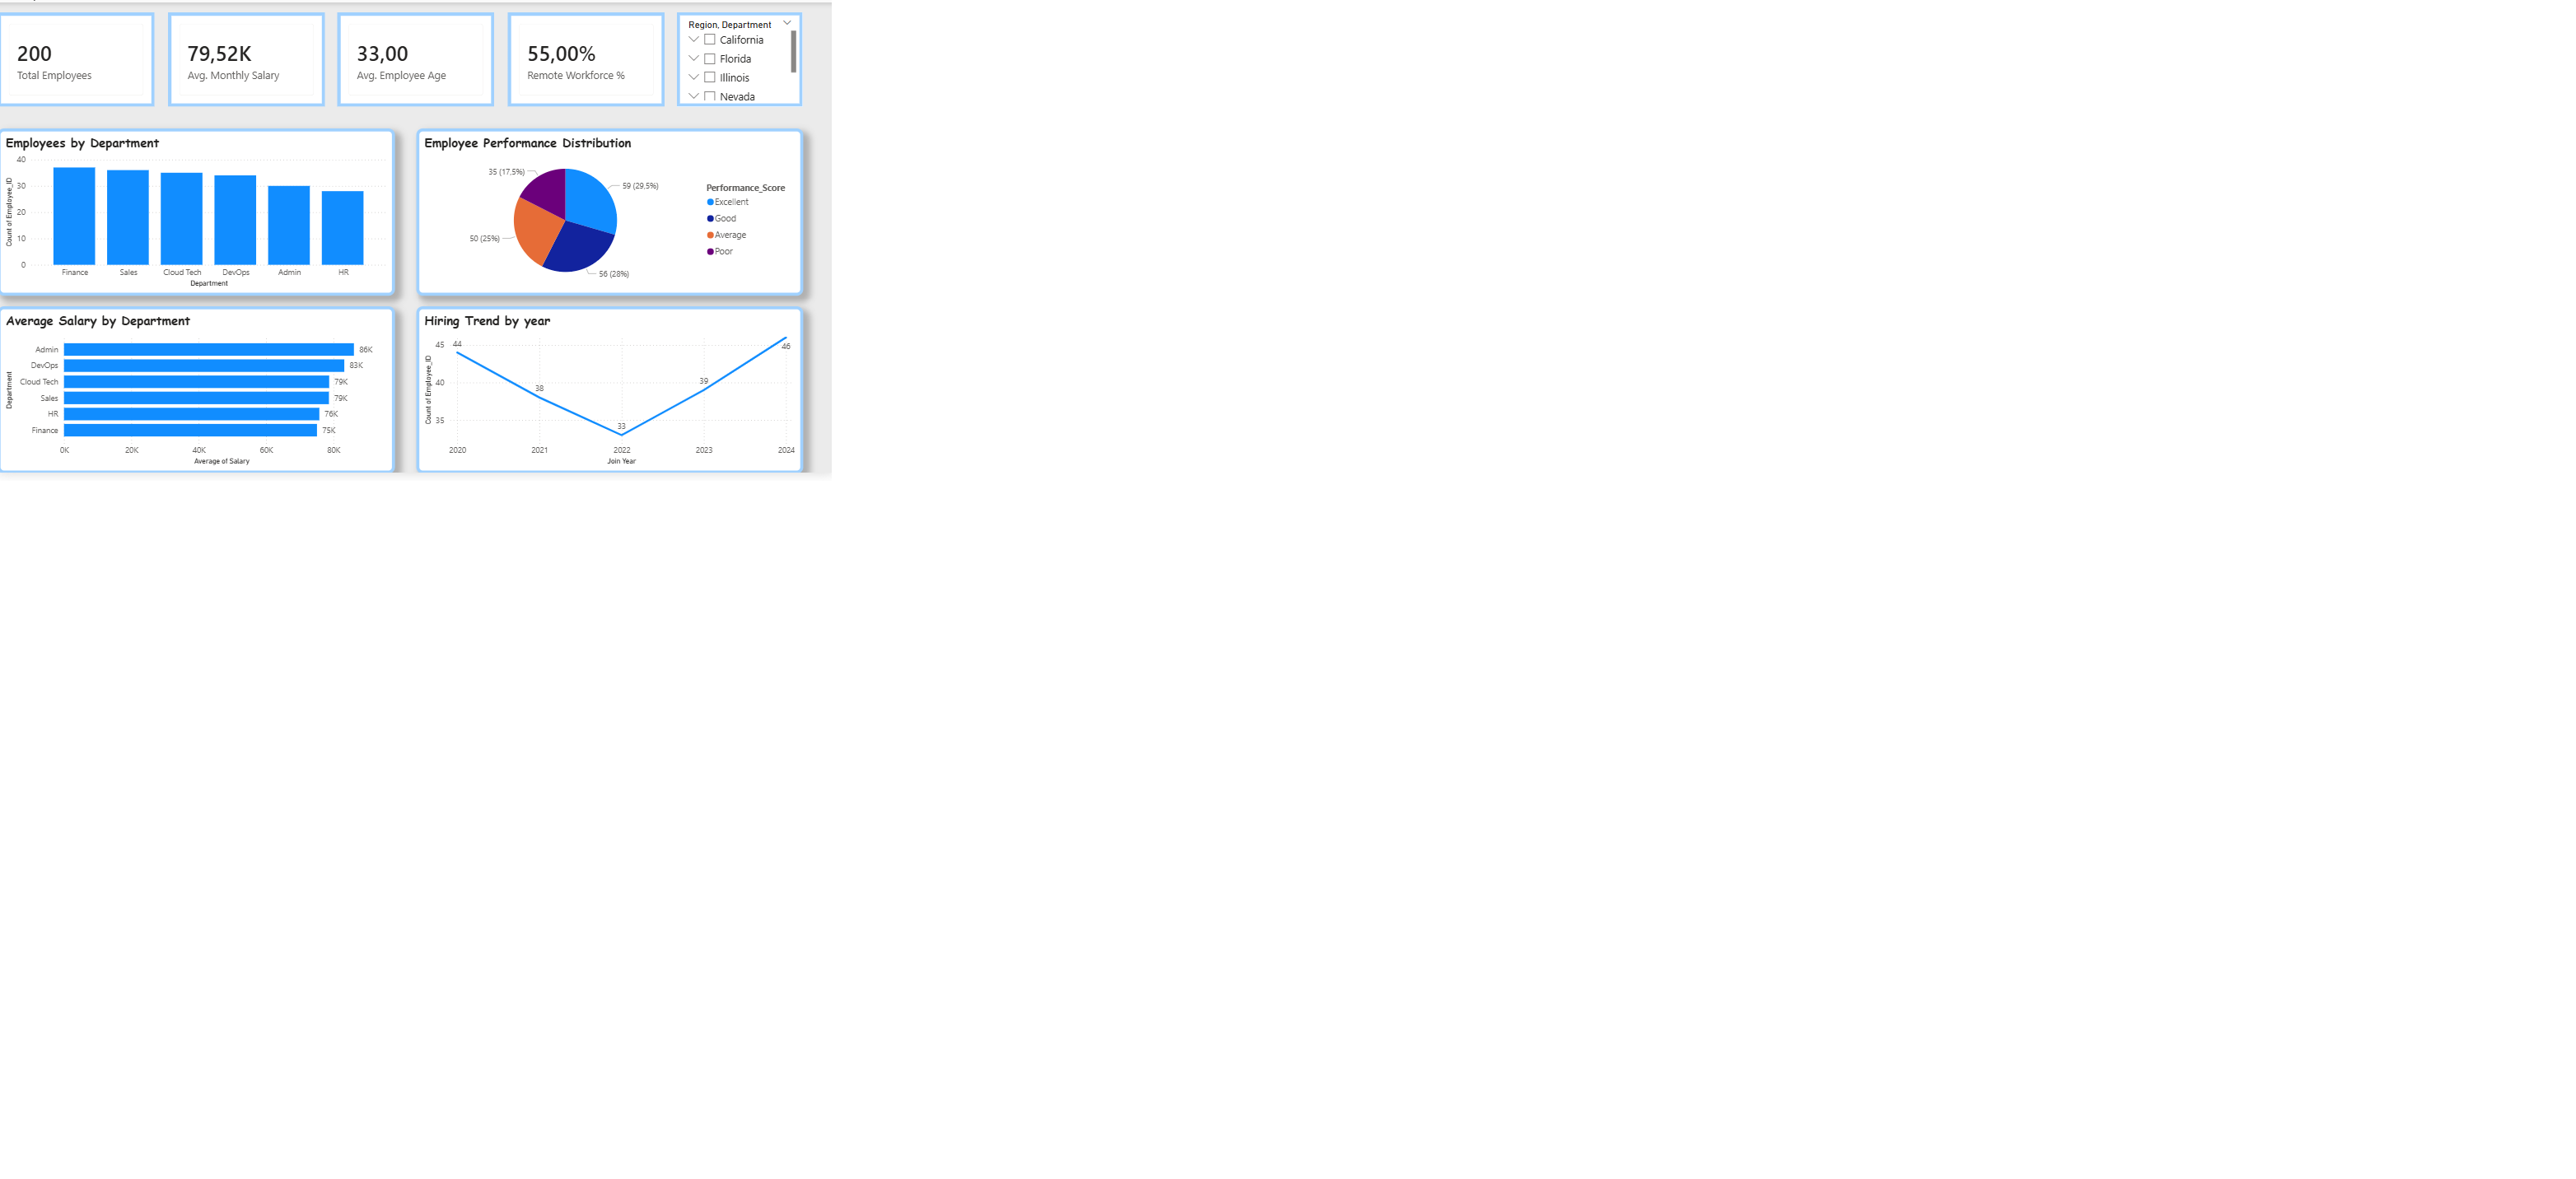

What the dashboard file says about the page in this screenshot:
{"tool":"powerbi","page":{"name":"Page 1","canvas":[1280,720],"ordinal":0},"visuals":[{"type":"cardVisual","title":"Total Employees","fields":{"Data":["CountNonNull(Messy_Employee_dataset.Employee_ID)"]},"box":[0,16,240,144],"z":0},{"type":"cardVisual","fields":{"Data":["Avg(Messy_Employee_dataset.Salary)"]},"box":[260,16,240,144],"z":1000},{"type":"cardVisual","fields":{"Data":["Avg(Messy_Employee_dataset.Age)"]},"box":[520,16,240,144],"z":2000},{"type":"cardVisual","fields":{"Data":["Messy_Employee_dataset.Remote %"]},"box":[780,16,240,144],"z":3000},{"type":"clusteredColumnChart","title":"Employees by Department","fields":{"Category":["Messy_Employee_dataset.Department"],"Y":["CountNonNull(Messy_Employee_dataset.Employee_ID)"]},"box":[0,192,608,256],"z":4000},{"type":"clusteredBarChart","title":"Average Salary by Department","fields":{"Category":["Messy_Employee_dataset.Department"],"Y":["Avg(Messy_Employee_dataset.Salary)"]},"box":[0,464,608,256],"z":5000},{"type":"pieChart","title":"Employee Performance Distribution","fields":{"Category":["Messy_Employee_dataset.Performance_Score"],"Y":["Count(Messy_Employee_dataset.Employee_ID)"]},"box":[640,192,592,256],"z":6000},{"type":"lineChart","title":"Hiring Trend by year","fields":{"Category":["Messy_Employee_dataset.Join Year"],"Y":["Count(Messy_Employee_dataset.Employee_ID)"]},"box":[640,464,592,256],"z":7000},{"type":"slicer","fields":{"Values":["Messy_Employee_dataset.Region","Messy_Employee_dataset.Department"]},"box":[1040,16,192,144],"z":8000}]}

Visuals, with their boxes on the page's 1280x720 design canvas (x1, y1, x2, y2). These are canvas units, not pixel positions in the 2576x1179 screenshot, which may show the page scaled, cropped or inside an application window:
"Total Employees" cardVisual: 0,16,240,160
cardVisual - Avg(Messy_Employee_dataset.Salary): 260,16,500,160
cardVisual - Avg(Messy_Employee_dataset.Age): 520,16,760,160
cardVisual - Messy_Employee_dataset.Remote %: 780,16,1020,160
"Employees by Department" clusteredColumnChart: 0,192,608,448
"Average Salary by Department" clusteredBarChart: 0,464,608,720
"Employee Performance Distribution" pieChart: 640,192,1232,448
"Hiring Trend by year" lineChart: 640,464,1232,720
slicer - Messy_Employee_dataset.Region x Messy_Employee_dataset.Department: 1040,16,1232,160
